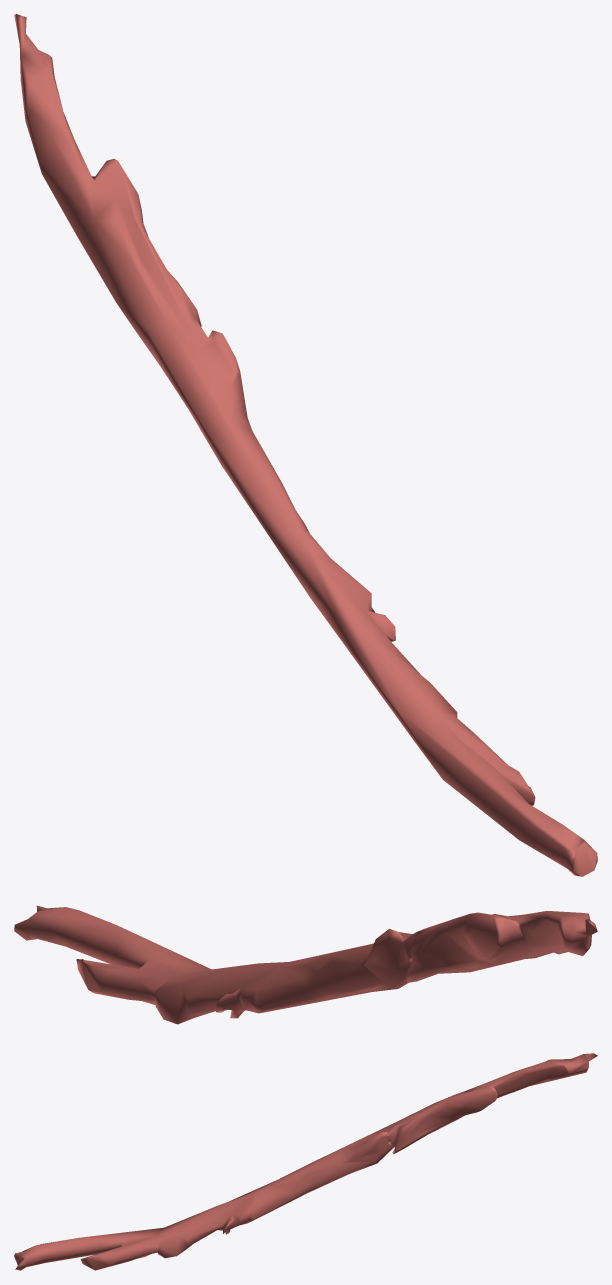
3 renders of one model, top to bottom at view 1: azimuth 30°, elevation 25°; view 2: azimuth 210°, elevation 25°; view 3: azimuth 270°, elevation 25°, orthographic. The views are drawn at different scales.
Visible parts, largest first — view 1: 右侧颈棘肌; view 2: 右侧颈棘肌; view 3: 右侧颈棘肌.
Part boxes in pixels (x1,y1,x2,y2): 右侧颈棘肌: [14, 14, 597, 876]; 右侧颈棘肌: [14, 905, 597, 1024]; 右侧颈棘肌: [14, 1053, 597, 1270].
Size of the model in its own units: 0.0117 by 0.0646 by 0.1558.
